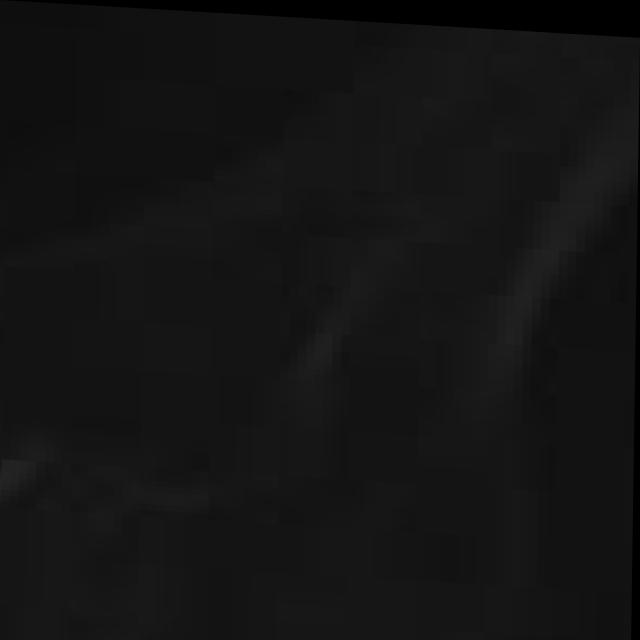fracture: (0, 13, 639, 640)
